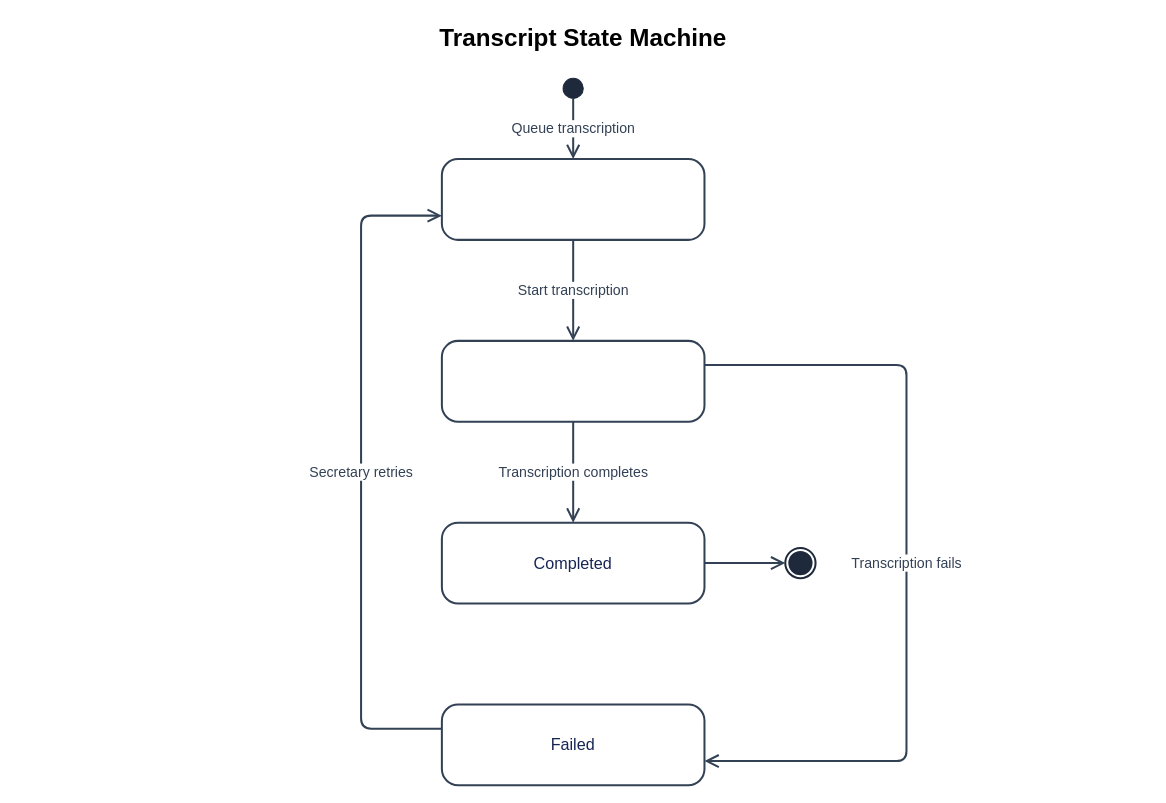
Some shapes in this 1166 by 803 pixel diagram are drawn without their labels. The box of each missing label's shape, as (x1, y1, x2, y2) in pixels:
Pending: (440, 158, 705, 240)
Processing: (440, 339, 705, 422)
